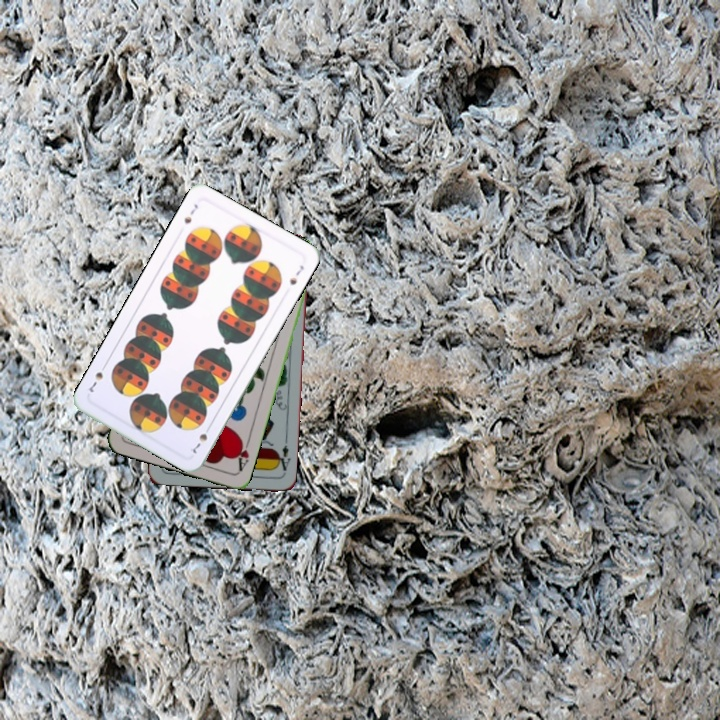EA: (272, 441, 293, 476)
HA: (231, 434, 253, 474)
S7: (188, 421, 214, 456), (180, 200, 201, 226)
